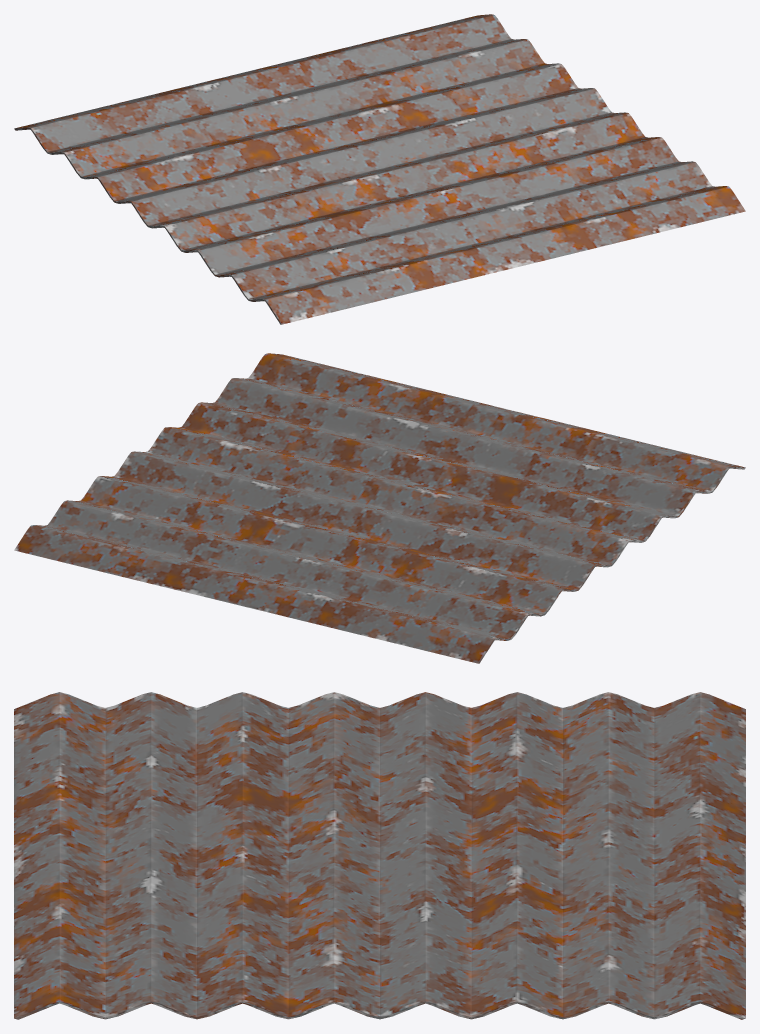
File: steel.fbx
The picture shows the model from 3 angles, top to bottom: view 1: azimuth 30°, elevation 25°; view 2: azimuth 150°, elevation 25°; view 3: azimuth 270°, elevation 25°; orthographic projection. The views are drawn at different scales.
Parts seen in each view (by area): view 1: steel; view 2: steel; view 3: steel.
Part boxes in pixels (x1=…): steel: x1=14, y1=14, x2=745, y2=324; steel: x1=14, y1=353, x2=745, y2=663; steel: x1=14, y1=692, x2=745, y2=1019.
Bounding box in the file's own units: 37.49 × 1.05 × 37.49.
